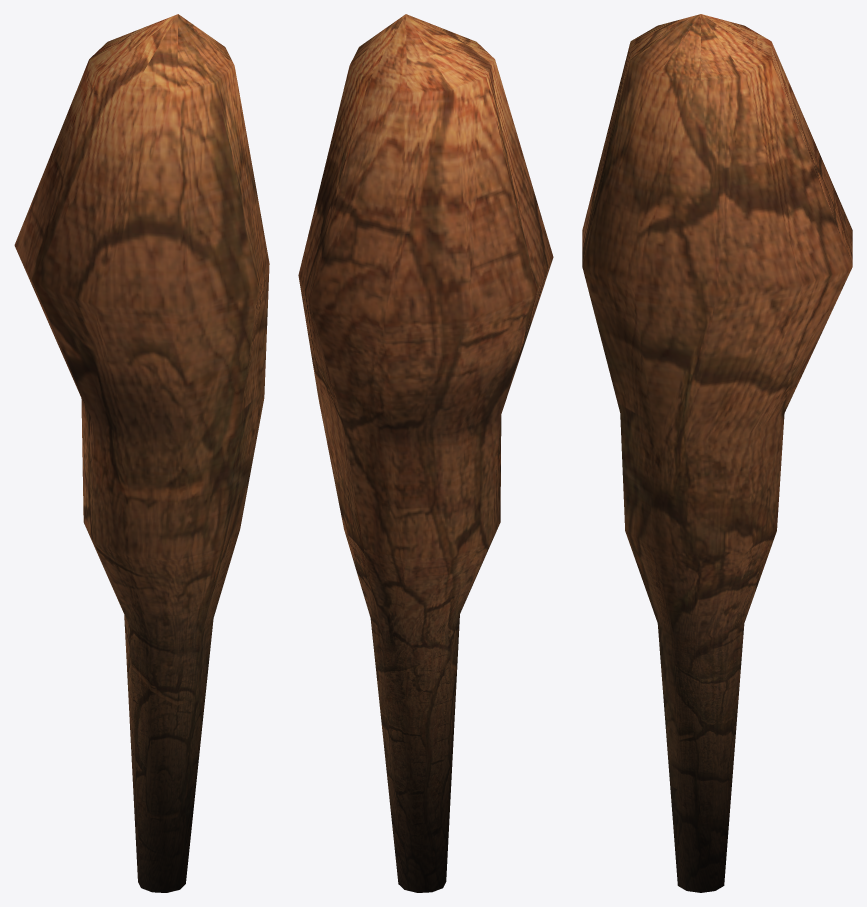
The model's file is stick01_regular.FBX.
3 renders of one model, left to right at view 1: azimuth 30°, elevation 25°; view 2: azimuth 150°, elevation 25°; view 3: azimuth 270°, elevation 25°, orthographic.
Visible parts, largest first — view 1: stick01; view 2: stick01; view 3: stick01.
Part boxes in pixels (x1,y1,x2,y2): stick01: (14, 14, 269, 892); stick01: (298, 14, 553, 892); stick01: (582, 14, 852, 892).
Bounding box in the file's own units: 0.3046 × 1.16 × 0.3209.
